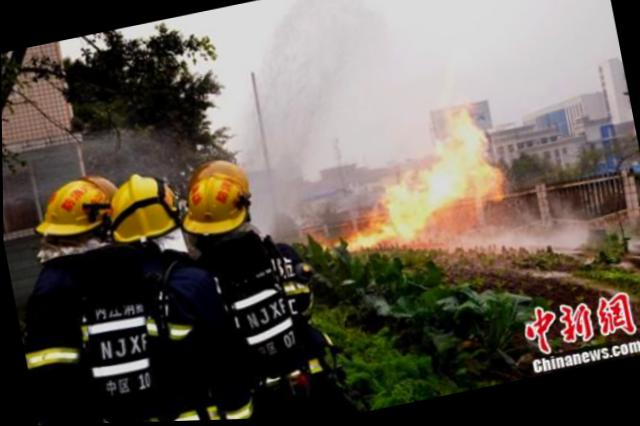fire: (441, 109, 506, 205), (378, 184, 429, 244), (414, 160, 464, 211), (337, 228, 387, 254)
